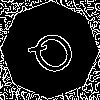Q: (25, 25, 87, 87)
